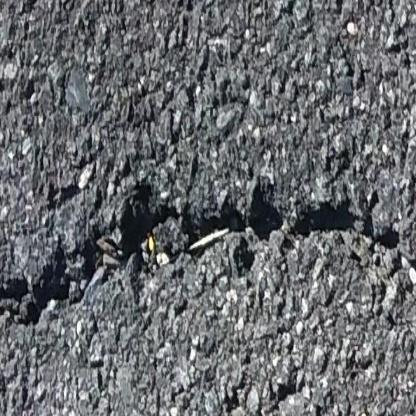Cracks: (0, 181, 404, 330), (407, 254, 416, 301)
